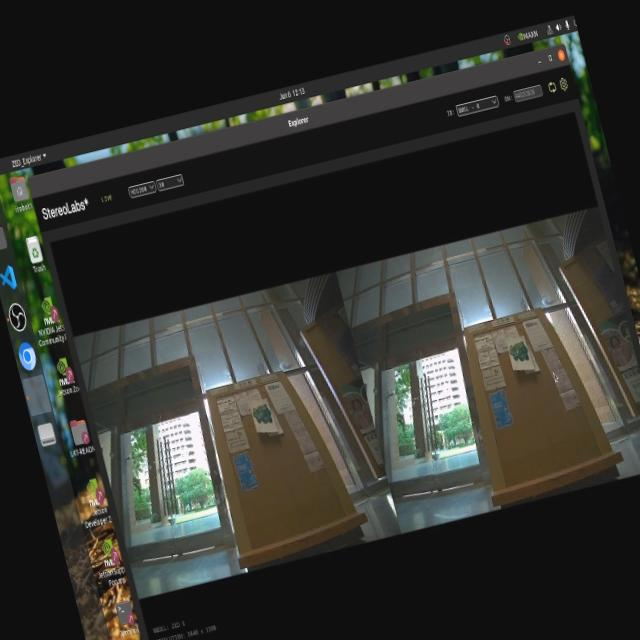green: (508, 331, 538, 377), (248, 394, 275, 431)
